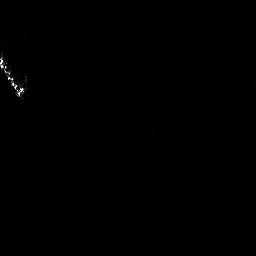ship: (1, 52, 30, 102)
